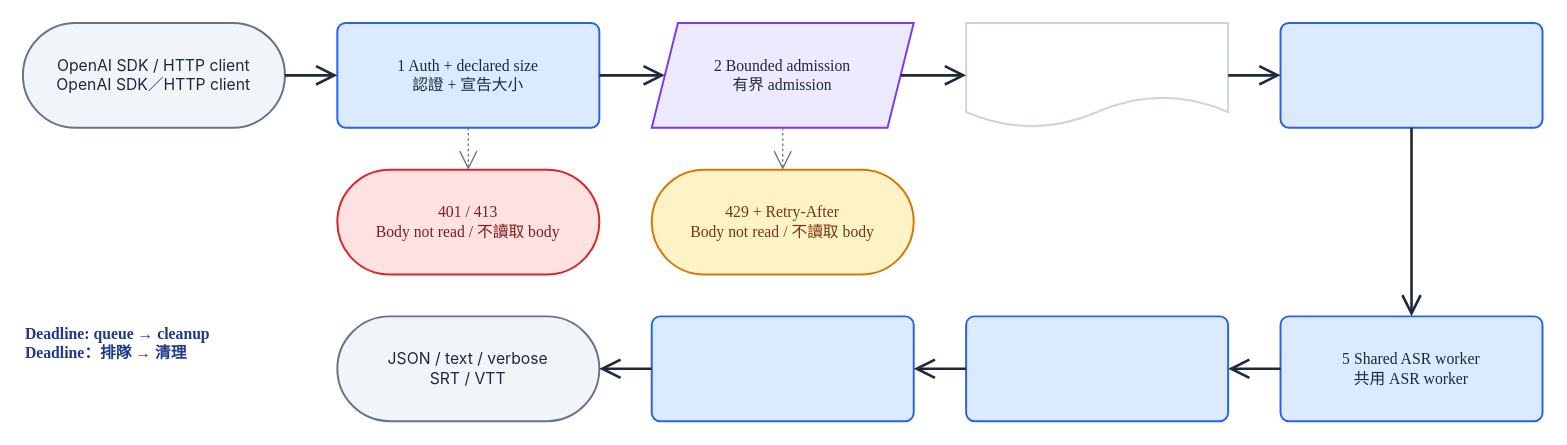
This 1567x445 diagram has some shape labels left out. Here are the shapes that lost their labels. From the top down, the centre of each, then its label:
At (1097,74): "3 One file + 12 fields Spool closes on every path".
At (1411,74): "4 Capped ffmpeg decode 限制 PCM 時長".
At (782,368): "7 Router + temp cleanup Router + 暫存清理".
At (1097,368): "6 OpenAI response format OpenAI 回應格式".
